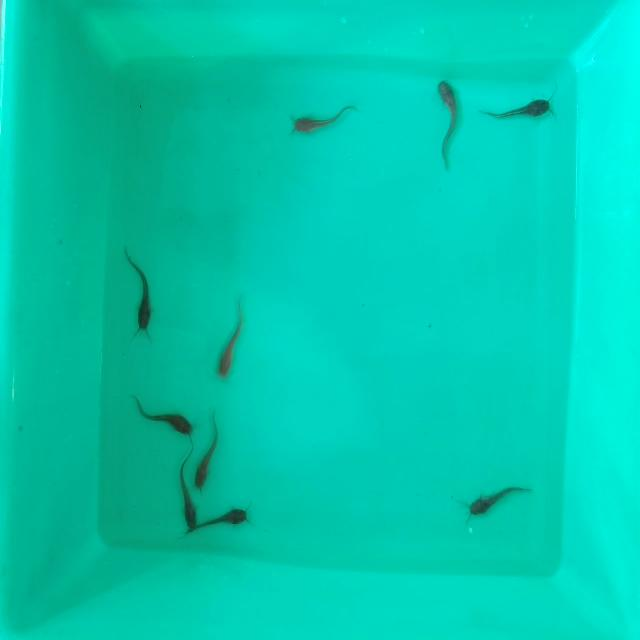lele: (430, 77, 462, 163), (476, 87, 552, 122), (469, 480, 531, 518), (291, 102, 353, 139), (213, 304, 243, 379), (135, 399, 197, 434), (129, 252, 154, 332), (194, 500, 251, 531), (197, 420, 220, 489), (179, 452, 196, 535)
